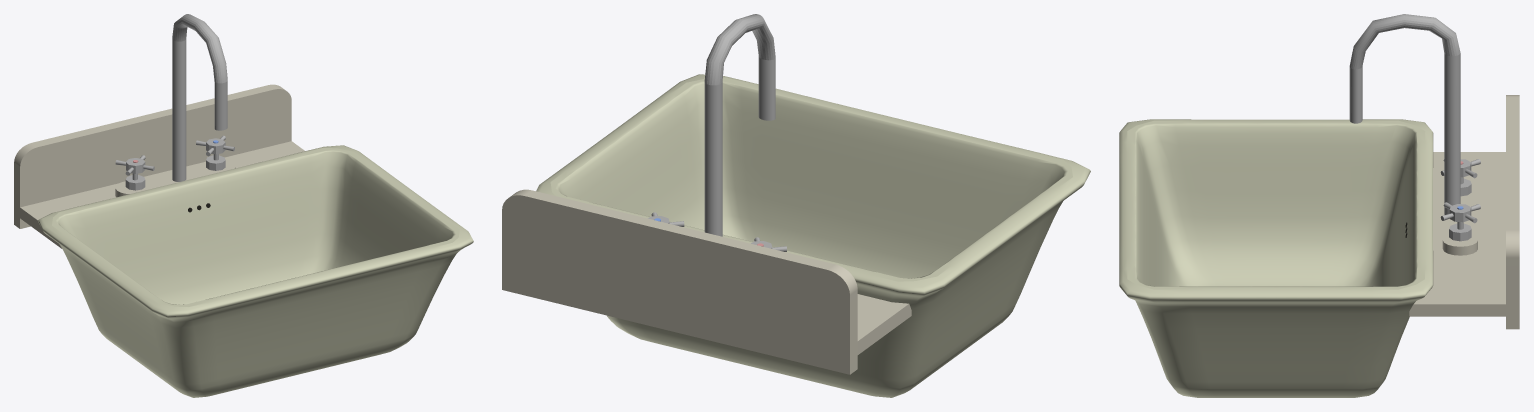
File: lounge_sink.fbx
3 renders of one model, left to right at view 1: azimuth 30°, elevation 25°; view 2: azimuth 150°, elevation 25°; view 3: azimuth 270°, elevation 25°, orthographic. The views are drawn at different scales.
Parts seen in each view (by area): view 1: Base, pCube2, Faucet, pCube1, pCube3; view 2: Base, pCube2, Faucet, pCube1; view 3: Base, pCube1, Faucet, pCube2, pCube3.
Boxes of the visible parts, x1=… form: Base: x1=38, y1=145, x2=473, y2=397; pCube2: x1=14, y1=84, x2=291, y2=228; Faucet: x1=172, y1=14, x2=227, y2=181; pCube1: x1=16, y1=141, x2=304, y2=248; pCube3: x1=115, y1=159, x2=235, y2=197; Base: x1=536, y1=74, x2=1090, y2=397; pCube2: x1=502, y1=189, x2=857, y2=374; Faucet: x1=704, y1=14, x2=775, y2=236; pCube1: x1=852, y1=294, x2=911, y2=354; Base: x1=1119, y1=119, x2=1433, y2=397; pCube1: x1=1409, y1=152, x2=1514, y2=316; Faucet: x1=1349, y1=14, x2=1460, y2=214; pCube2: x1=1506, y1=95, x2=1519, y2=329; pCube3: x1=1442, y1=183, x2=1477, y2=255.
Bounding box in the file's own units: 2.26 × 1.96 × 2.15.
